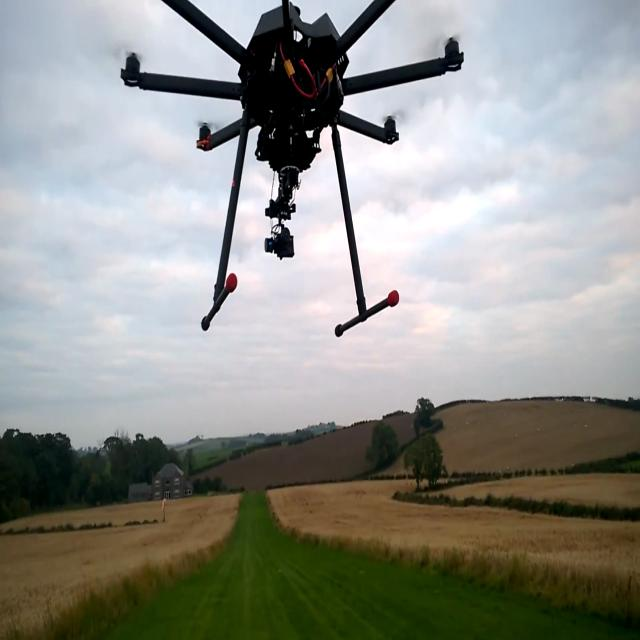drone: (118, 0, 468, 364)
